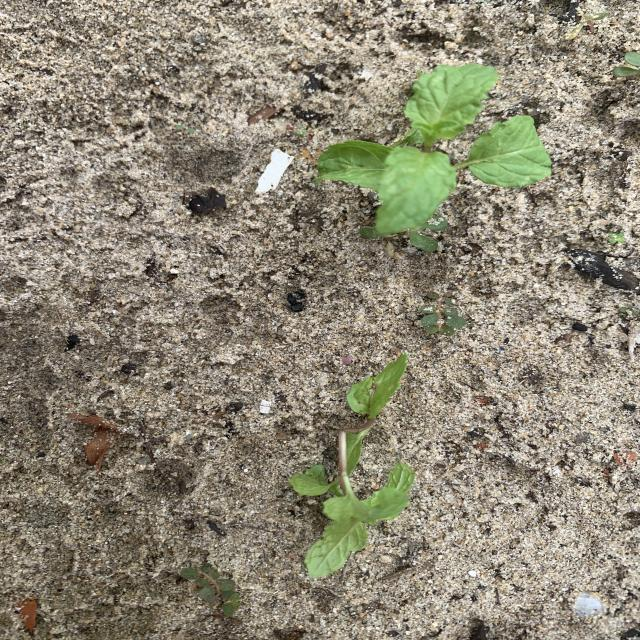crop: (315, 64, 551, 234), (289, 353, 415, 577)
weed: (180, 564, 240, 618), (420, 291, 467, 335), (408, 215, 449, 253), (612, 52, 640, 77), (173, 124, 201, 136), (360, 227, 386, 239), (608, 231, 625, 245)
